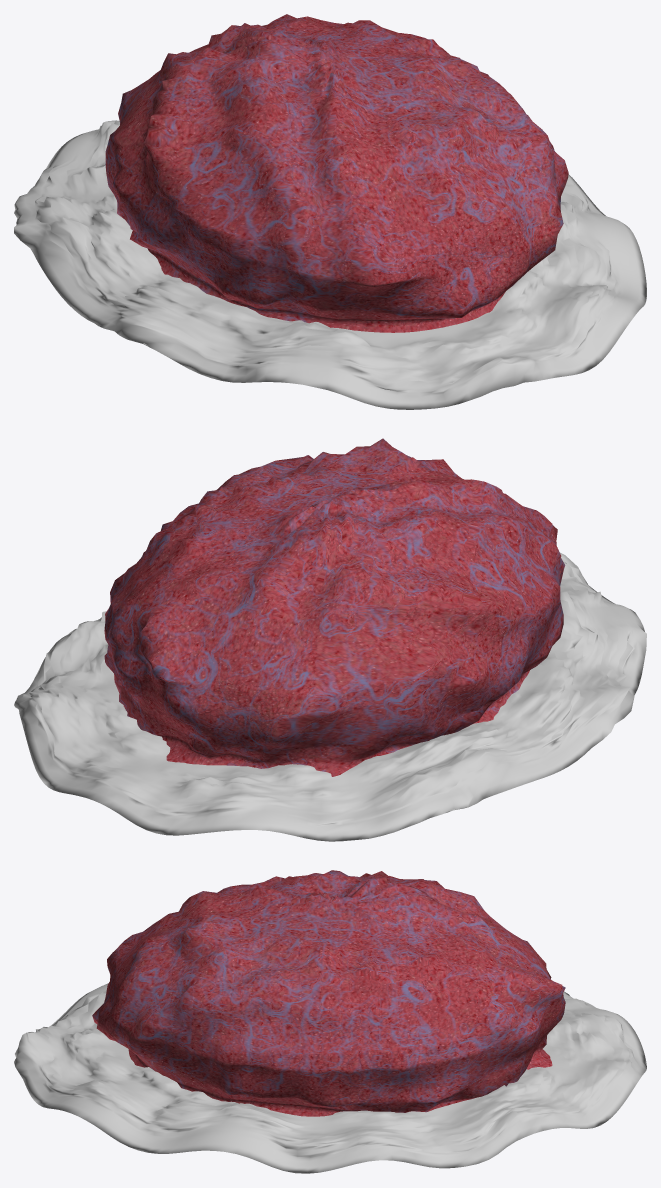
File: Sludge_Textured.fbx
3 views of the same model, one above another, from view 1: azimuth 30°, elevation 25°; view 2: azimuth 150°, elevation 25°; view 3: azimuth 270°, elevation 25° (orthographic). The views are drawn at different scales.
Parts seen in each view (by area): view 1: SludgeHead, Sludge; view 2: SludgeHead, Sludge; view 3: SludgeHead, Sludge.
Boxes of the visible parts, box(x1,y1,x2,y2) form: SludgeHead: box(105, 14, 568, 332); Sludge: box(14, 120, 646, 409); SludgeHead: box(104, 438, 565, 776); Sludge: box(14, 552, 646, 841); SludgeHead: box(92, 870, 565, 1116); Sludge: box(14, 983, 646, 1173).
Bounding box in the file's own units: 5.27 × 2.12 × 6.78.
